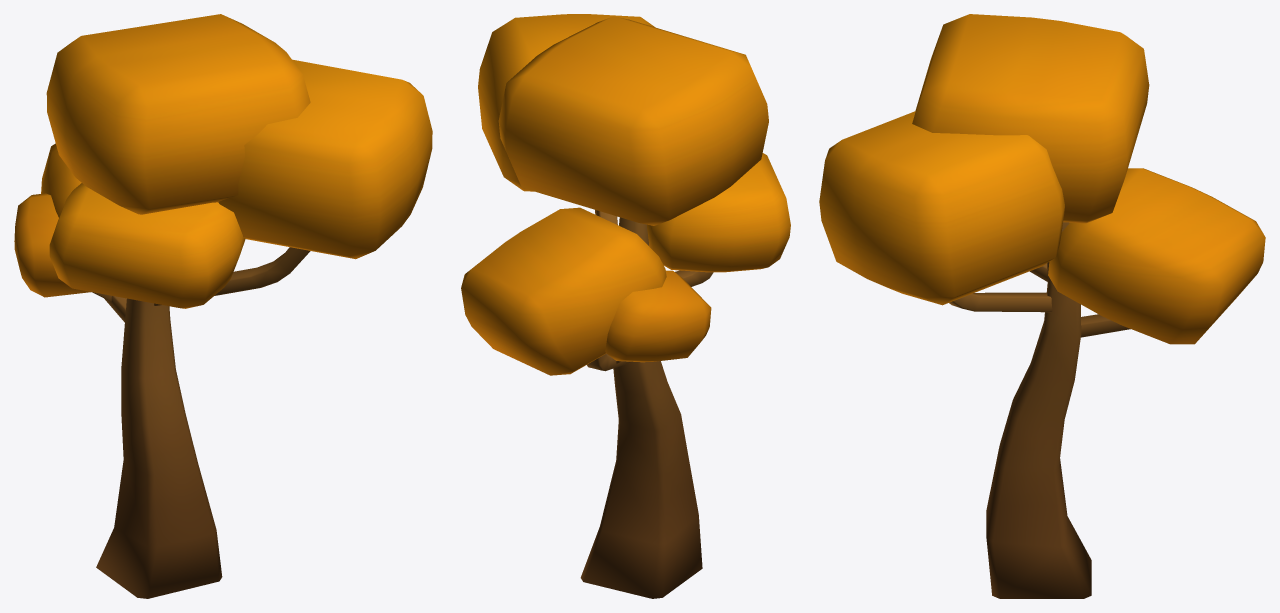
The model's file is Tree_1_3.obj.
3 renders of one model, left to right at view 1: azimuth 30°, elevation 25°; view 2: azimuth 150°, elevation 25°; view 3: azimuth 270°, elevation 25°, orthographic. The views are drawn at different scales.
Parts seen in each view (by area): view 1: Tree_1_3; view 2: Tree_1_3; view 3: Tree_1_3.
Boxes of the visible parts, box(x1,y1,x2,y2) form: Tree_1_3: box(14, 14, 432, 598); Tree_1_3: box(461, 14, 790, 598); Tree_1_3: box(819, 14, 1265, 598).
Size of the model in its own units: 2.51 by 3.71 by 2.8.
